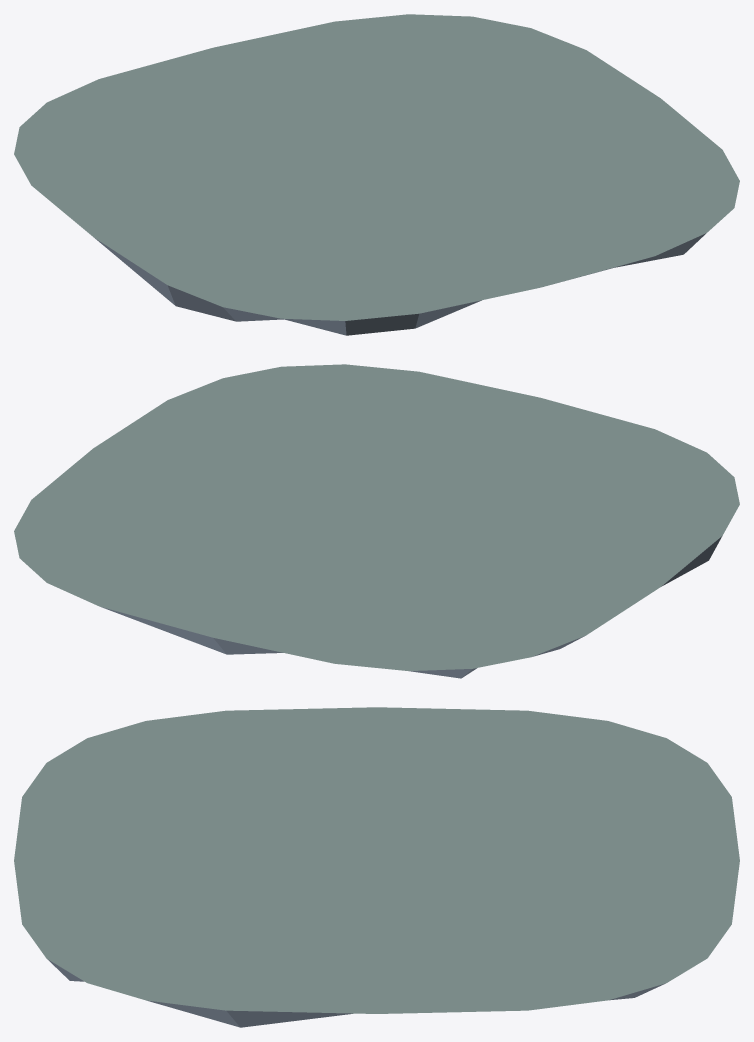
Rendered from Island_Frag_01.glb.
3 views of the same model, one above another, from view 1: azimuth 30°, elevation 25°; view 2: azimuth 150°, elevation 25°; view 3: azimuth 270°, elevation 25° (orthographic). The views are drawn at different scales.
Parts seen in each view (by area): view 1: Island_Frag_01; view 2: Island_Frag_01; view 3: Island_Frag_01.
Boxes of the visible parts, bbox=[...] form: Island_Frag_01: bbox=[14, 14, 739, 335]; Island_Frag_01: bbox=[14, 364, 739, 678]; Island_Frag_01: bbox=[14, 707, 739, 1027].
Bounding box in the file's own units: 92 × 8 × 92.
